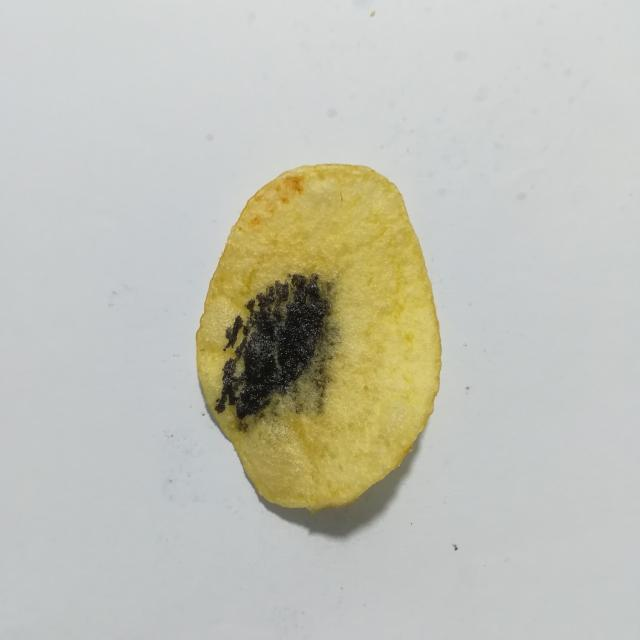chip: (196, 164, 441, 509)
damaged: (215, 274, 329, 421)
semi-damaged: (236, 273, 339, 434)
